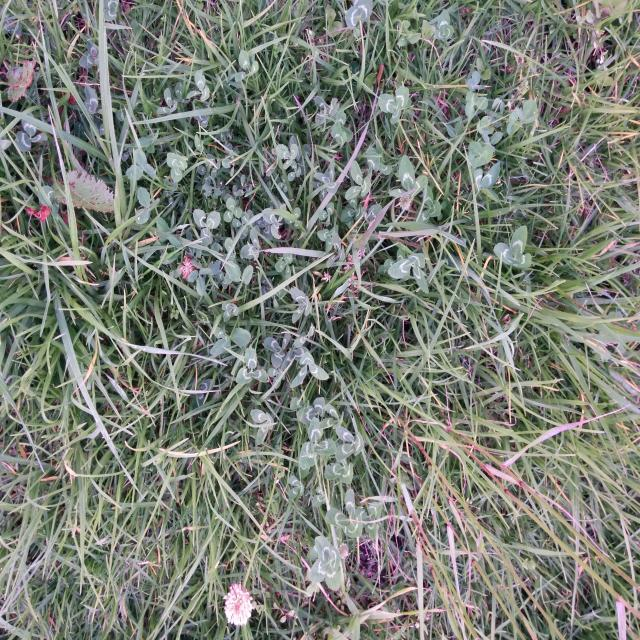Four Leaf Clover: (308, 536, 341, 591)
